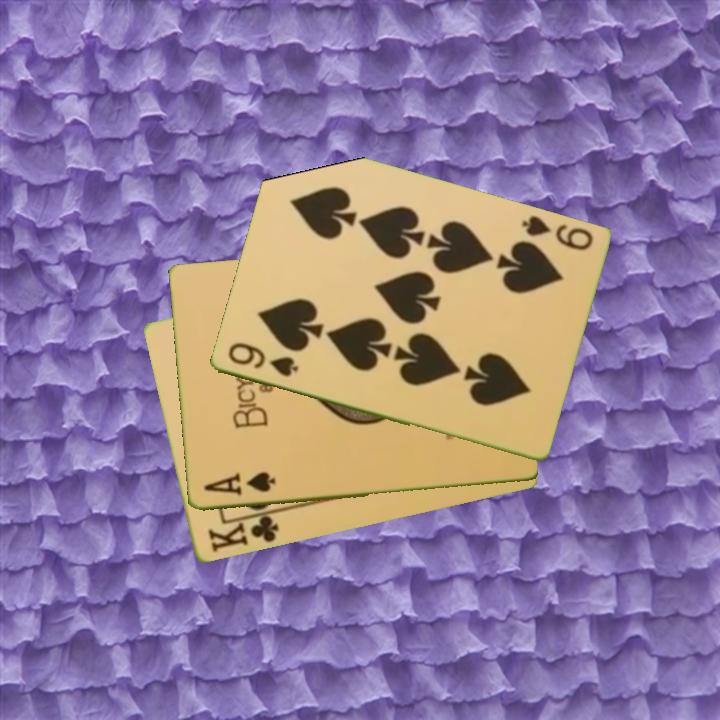9s: (517, 212, 596, 254), (224, 339, 301, 380)
As: (199, 469, 278, 498)
Kc: (204, 508, 282, 556)
